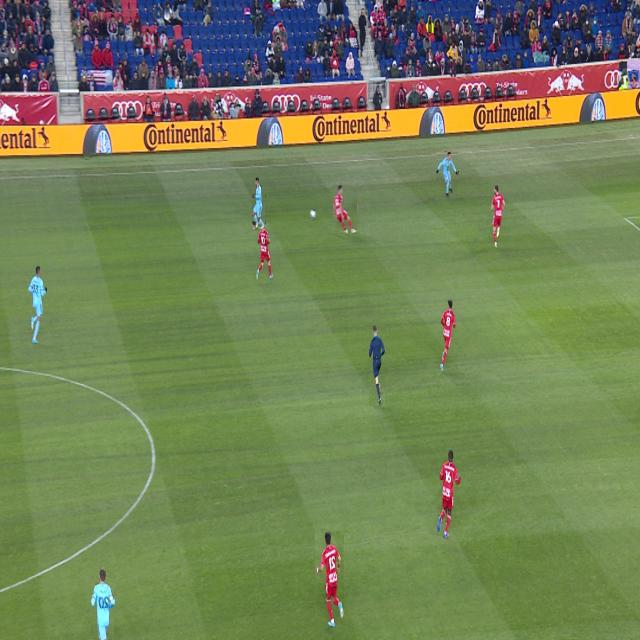football: (310, 210, 316, 218)
player: (316, 532, 344, 628), (437, 451, 461, 538), (92, 568, 114, 640), (28, 267, 47, 343), (334, 185, 357, 234), (440, 300, 455, 373), (256, 221, 274, 281), (437, 152, 458, 197), (491, 185, 505, 249), (253, 178, 265, 229)
referee: (369, 325, 385, 406)
